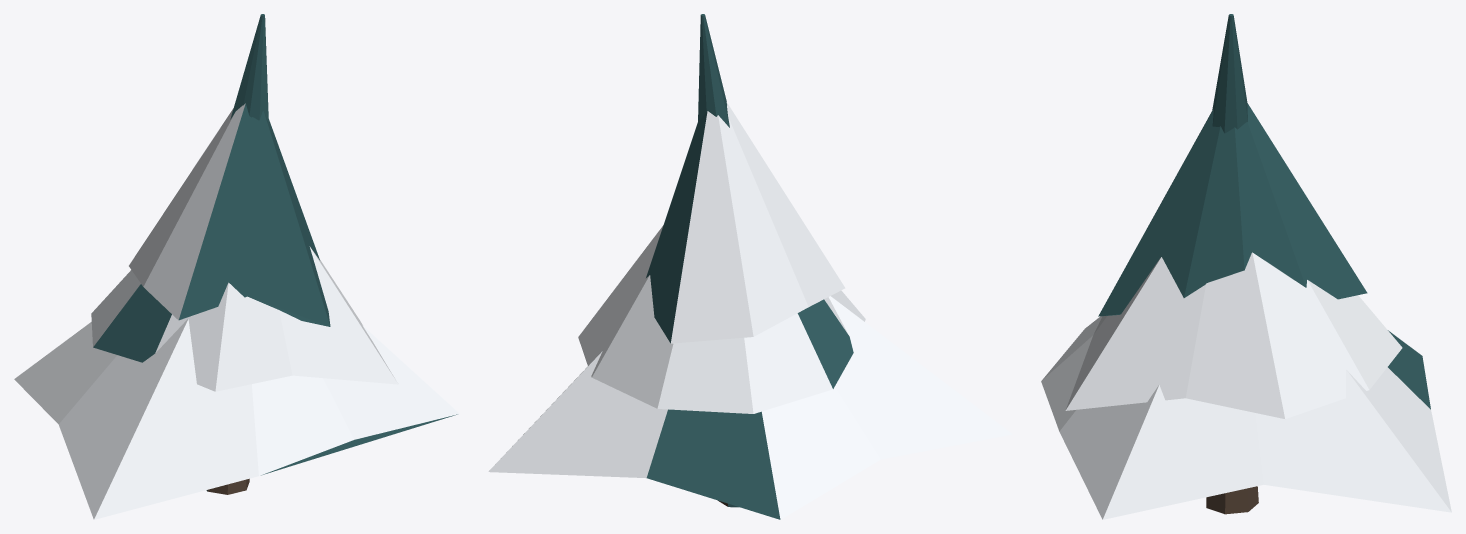
The model's file is pine_b.glb.
The picture shows the model from 3 angles, left to right: view 1: azimuth 30°, elevation 25°; view 2: azimuth 150°, elevation 25°; view 3: azimuth 270°, elevation 25°; orthographic projection. The views are drawn at different scales.
Visible parts, largest first — view 1: pine_b; view 2: pine_b; view 3: pine_b.
Part boxes in pixels (<box>): pine_b: <box>14,14,459,519</box>; pine_b: <box>488,14,1012,519</box>; pine_b: <box>1041,14,1451,519</box>.
Size of the model in its own units: 5.86 by 6.89 by 5.05.
